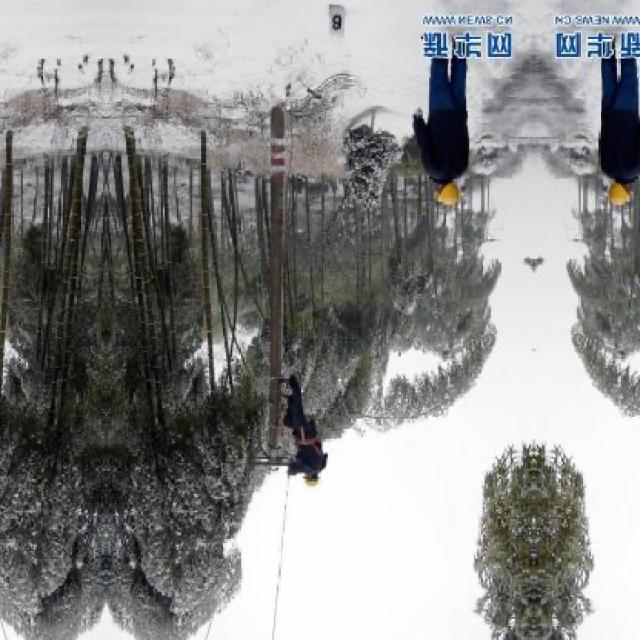con casco: (423, 157, 492, 218), (289, 457, 338, 513), (606, 157, 640, 218)
